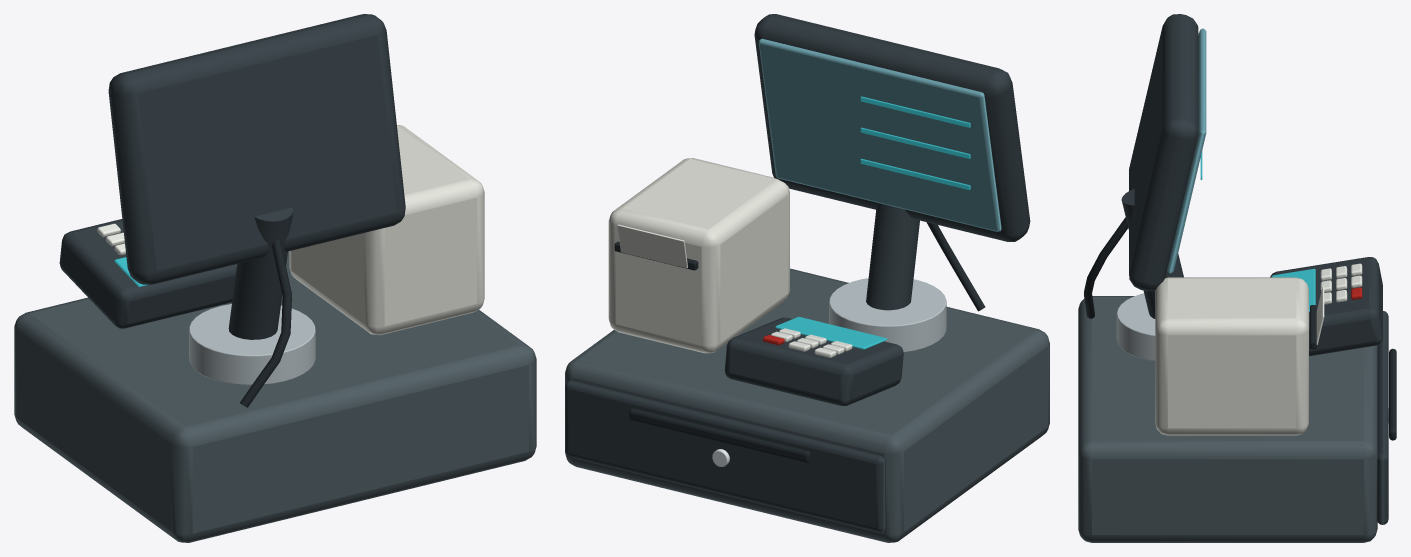
File: cash_register.glb
3 renders of one model, left to right at view 1: azimuth 30°, elevation 25°; view 2: azimuth 150°, elevation 25°; view 3: azimuth 270°, elevation 25°, orthographic. The views are drawn at different scales.
Parts seen in each view (by area): view 1: cash_register_render_mesh; view 2: cash_register_render_mesh; view 3: cash_register_render_mesh.
Part boxes in pixels (x1,y1,x2,y2): cash_register_render_mesh: [14, 14, 536, 542]; cash_register_render_mesh: [565, 14, 1049, 542]; cash_register_render_mesh: [1078, 14, 1396, 542].
Bounding box in the file's own units: 0.44 × 0.4908 × 0.3725.
